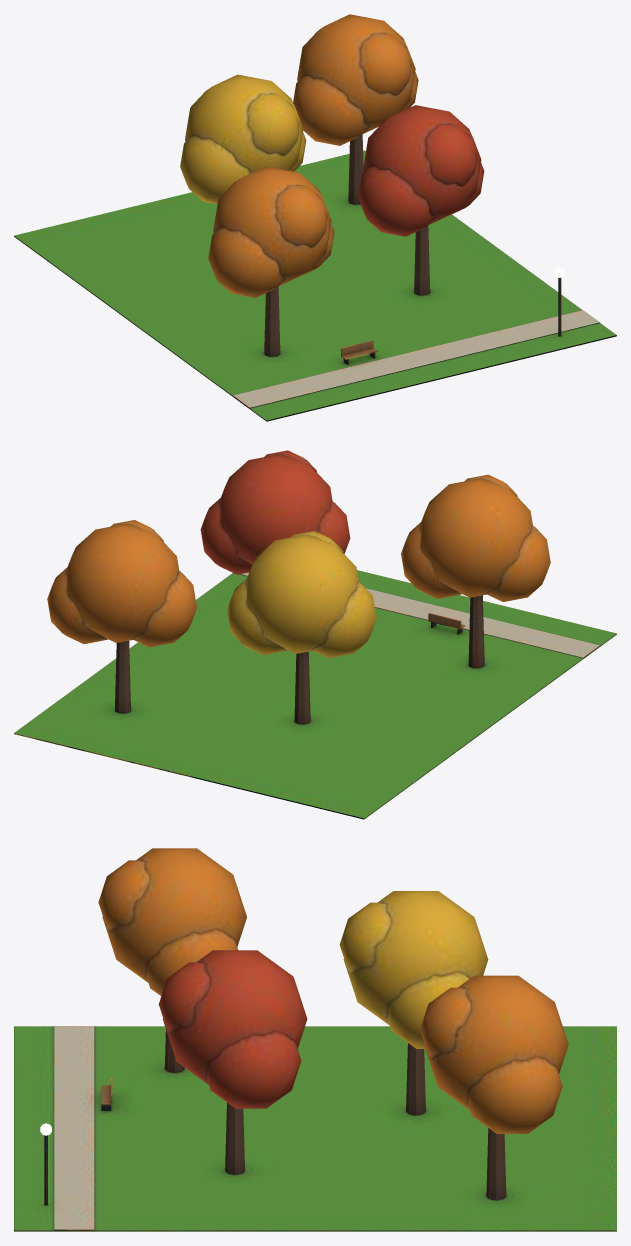
File: parque_bushnell.glb
3 renders of one model, top to bottom at view 1: azimuth 30°, elevation 25°; view 2: azimuth 150°, elevation 25°; view 3: azimuth 270°, elevation 25°, orthographic. The views are drawn at different scales.
Parts seen in each view (by area): view 1: parque_bushnell; view 2: parque_bushnell; view 3: parque_bushnell.
Boxes of the visible parts, x1,y1,x2,y2 form: parque_bushnell: (14, 14, 616, 421); parque_bushnell: (14, 450, 616, 819); parque_bushnell: (14, 848, 616, 1231).
Bounding box in the file's own units: 24.28 × 12 × 30.
Materials: 1 (1 with a texture image).
